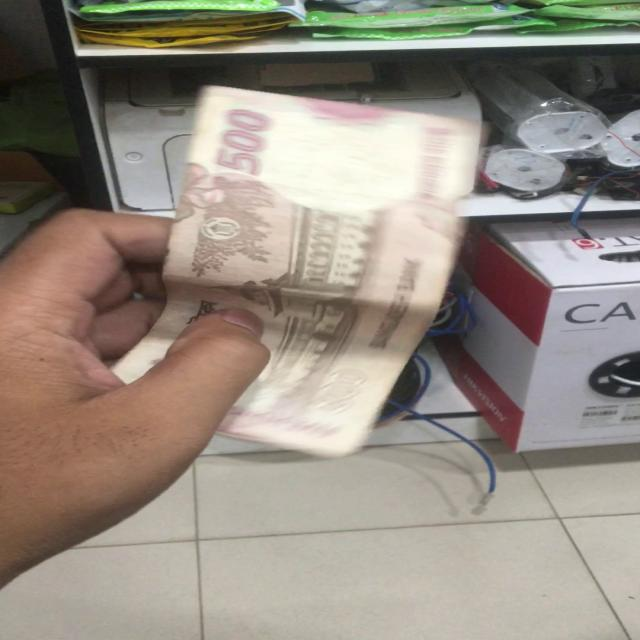Taka: (166, 85, 470, 443)
